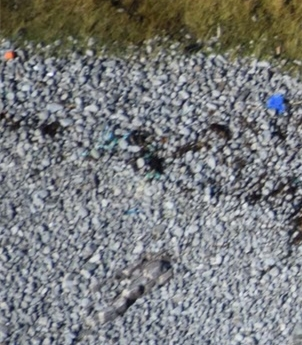white_in_green: (253, 81, 301, 124), (1, 39, 29, 72)
